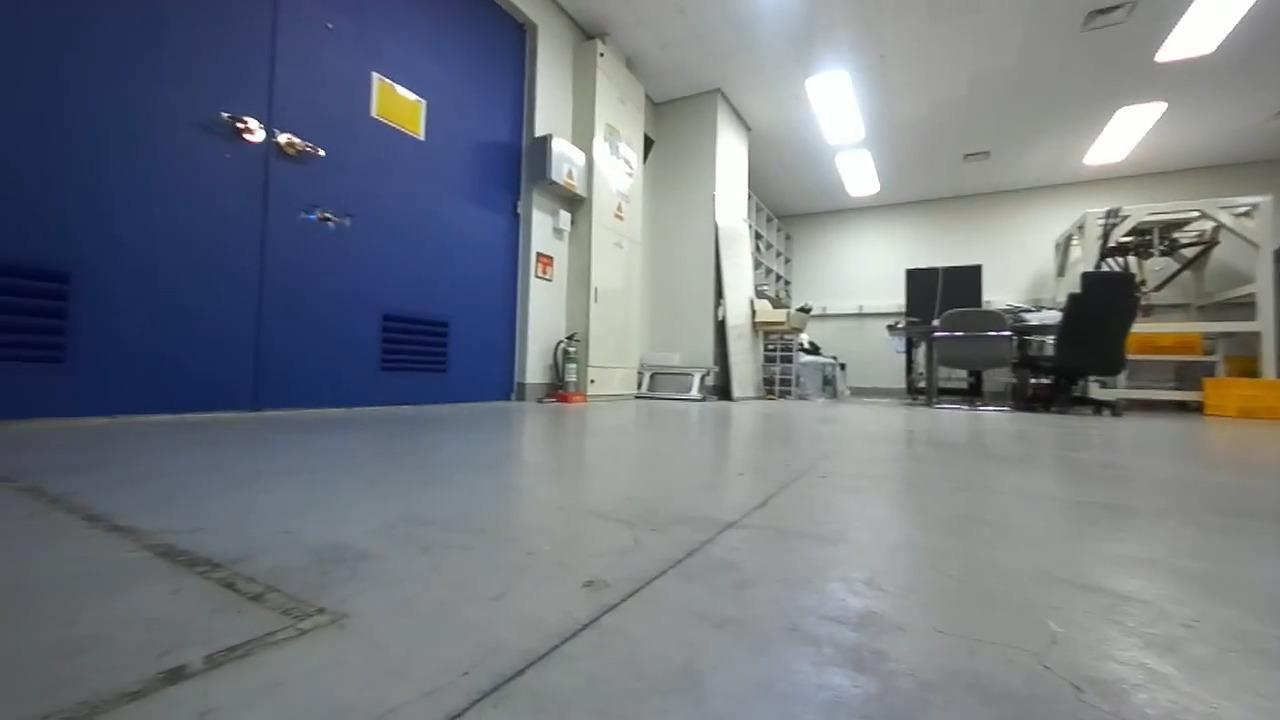crazyflie: (293, 201, 356, 234)
